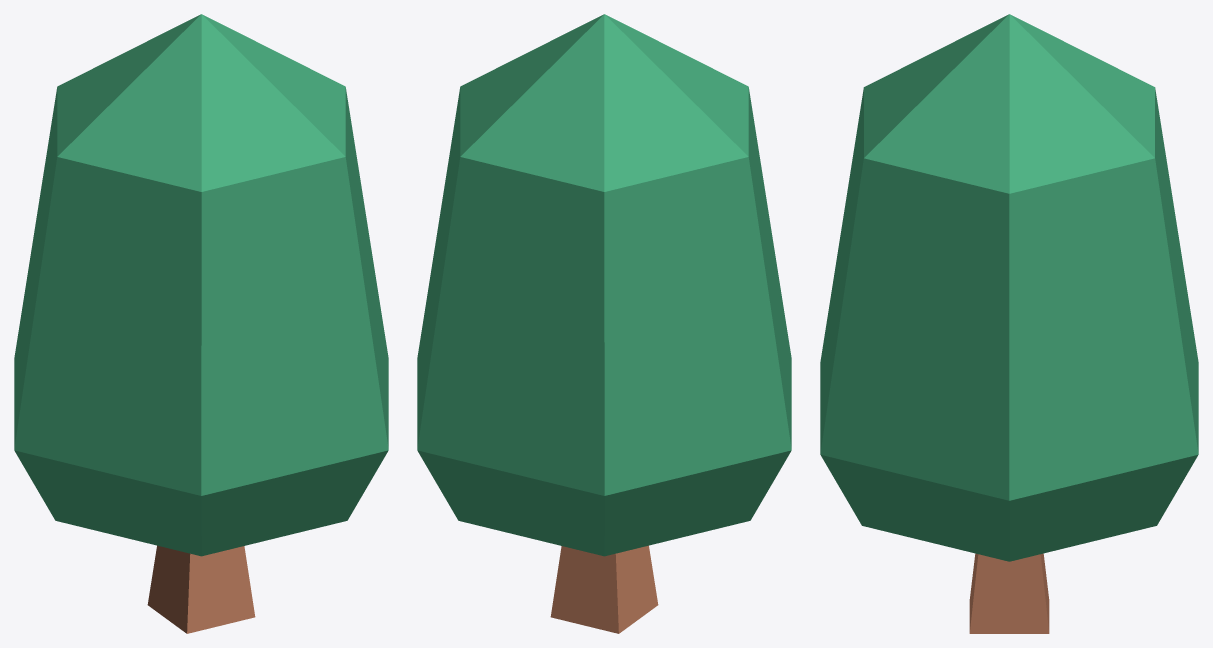
The model's file is tree_round_b.glb.
3 renders of one model, left to right at view 1: azimuth 30°, elevation 25°; view 2: azimuth 150°, elevation 25°; view 3: azimuth 270°, elevation 25°, orthographic.
Visible parts, largest first — view 1: tree_round_b; view 2: tree_round_b; view 3: tree_round_b.
Boxes of the visible parts, x1,y1,x2,y2 form: tree_round_b: [14, 14, 388, 633]; tree_round_b: [417, 14, 791, 633]; tree_round_b: [820, 14, 1198, 633].
Bounding box in the file's own units: 0.755 × 1.15 × 0.6538.
